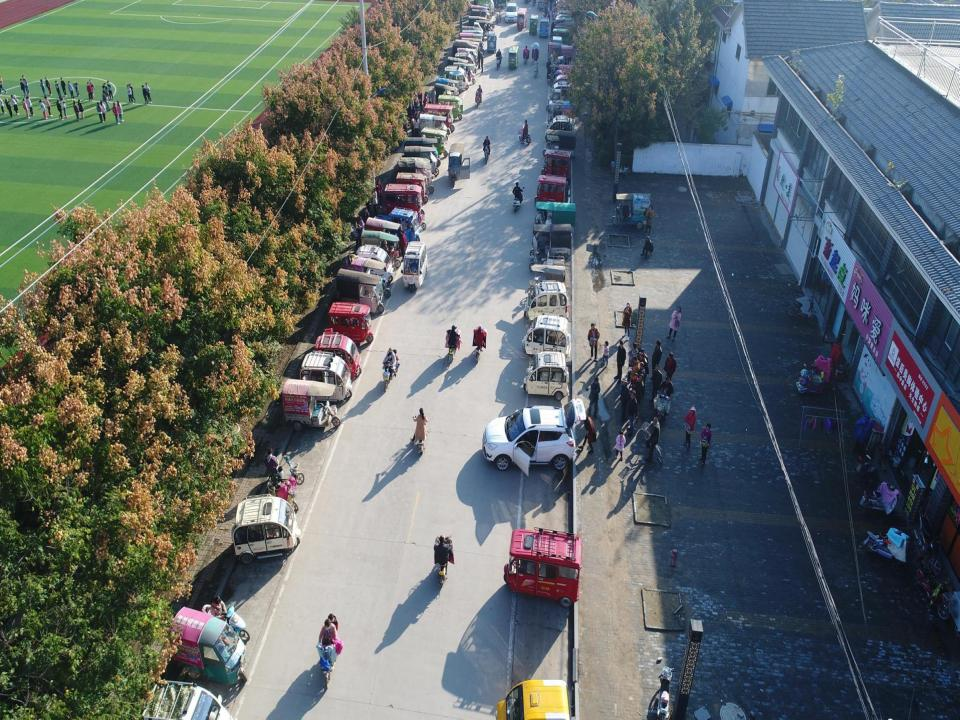car: (482, 399, 589, 477), (504, 2, 520, 23)
